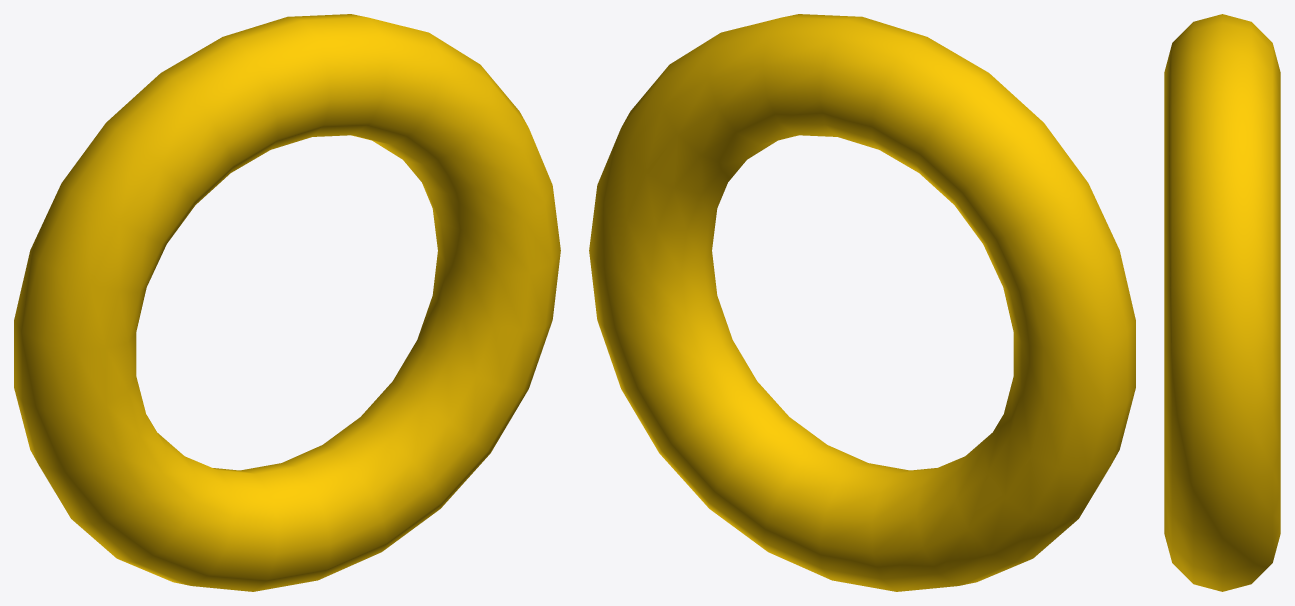
File: circle_gold.fbx
3 views of the same model, side by side, from view 1: azimuth 30°, elevation 25°; view 2: azimuth 150°, elevation 25°; view 3: azimuth 270°, elevation 25° (orthographic). The views are drawn at different scales.
Parts seen in each view (by area): view 1: Torus.002; view 2: Torus.002; view 3: Torus.002.
Boxes of the visible parts, box(x1,y1,x2,y2) form: Torus.002: box(14, 14, 560, 591); Torus.002: box(589, 14, 1135, 591); Torus.002: box(1164, 14, 1280, 591).
Size of the model in its own units: 0.3708 by 0.0744 by 0.3715.
